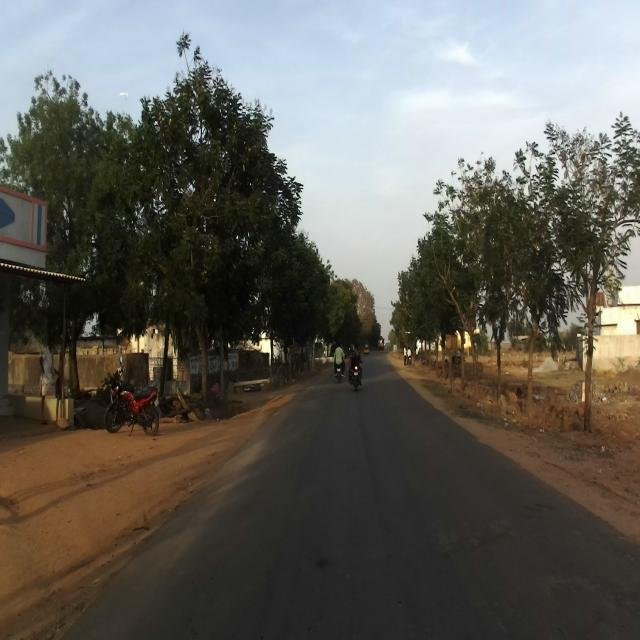motorcycle_Hero: (105, 354, 162, 437), (334, 360, 344, 382)
motorcycle_bajaj: (350, 358, 362, 392)
